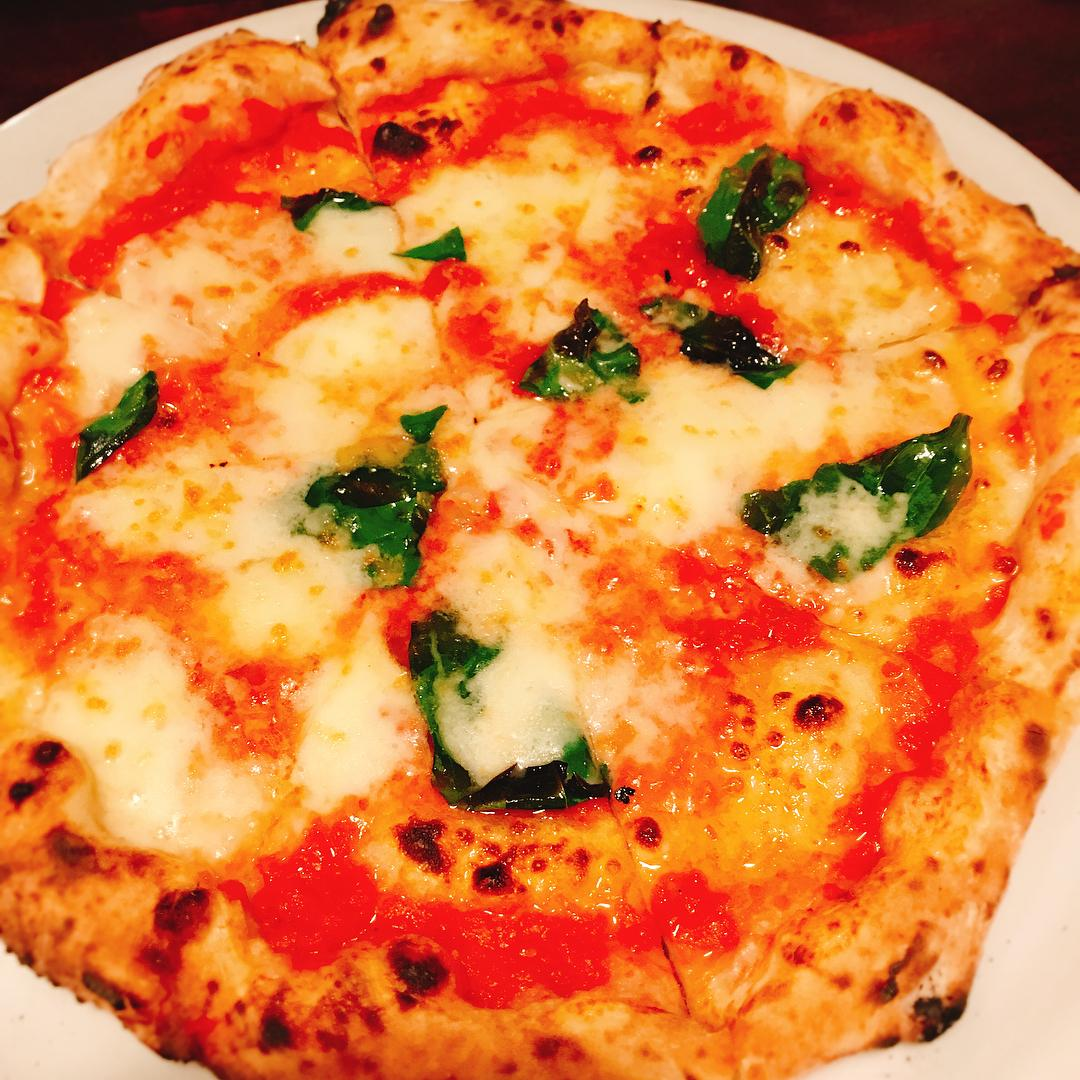Arugula: (413, 623, 614, 816), (501, 271, 805, 393), (719, 433, 982, 566), (283, 435, 454, 578), (291, 185, 466, 276), (691, 141, 808, 270), (69, 369, 156, 465)
Cheese: (42, 578, 398, 860), (81, 195, 513, 416), (455, 385, 837, 622)
Pizza: (0, 35, 1080, 1080)
